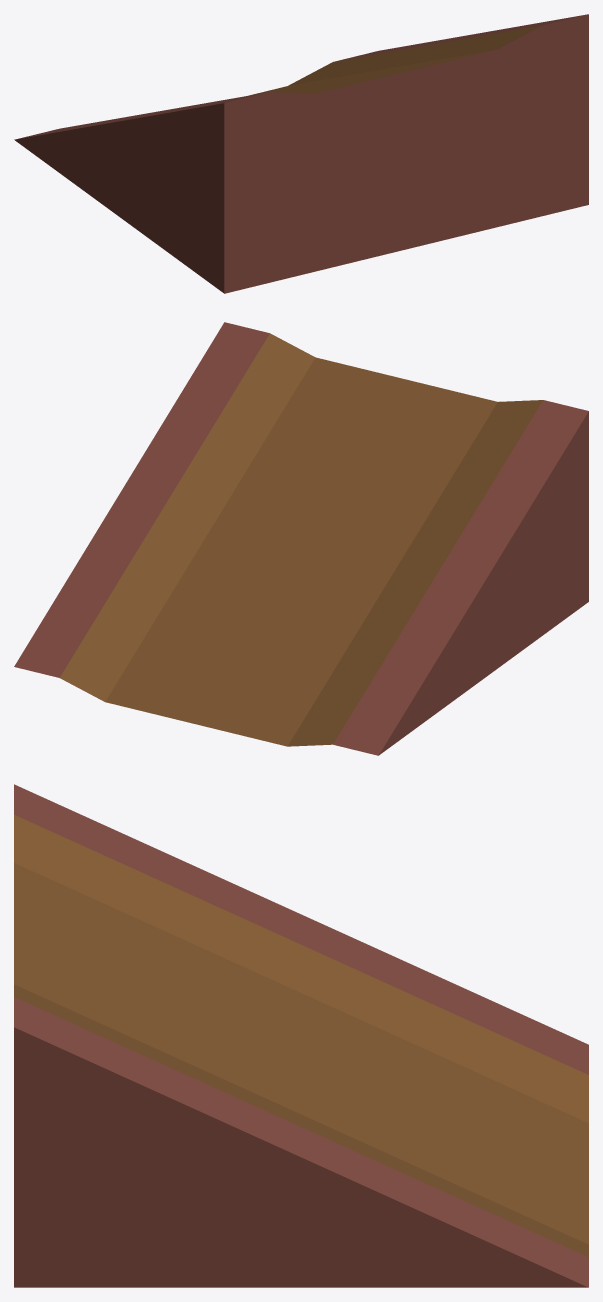
File: Dirt_Path_Straight_Slope.glb
The picture shows the model from 3 angles, top to bottom: view 1: azimuth 30°, elevation 25°; view 2: azimuth 150°, elevation 25°; view 3: azimuth 270°, elevation 25°; orthographic projection. The views are drawn at different scales.
Parts seen in each view (by area): view 1: Dirt Path Straight Slope; view 2: Dirt Path Straight Slope; view 3: Dirt Path Straight Slope.
Boxes of the visible parts, x1,y1,x2,y2 form: Dirt Path Straight Slope: (14,14,588,293); Dirt Path Straight Slope: (14,322,588,755); Dirt Path Straight Slope: (14,784,588,1287).
Size of the model in its own units: 2 by 1.07 by 2.
1 material, 1 textured.
